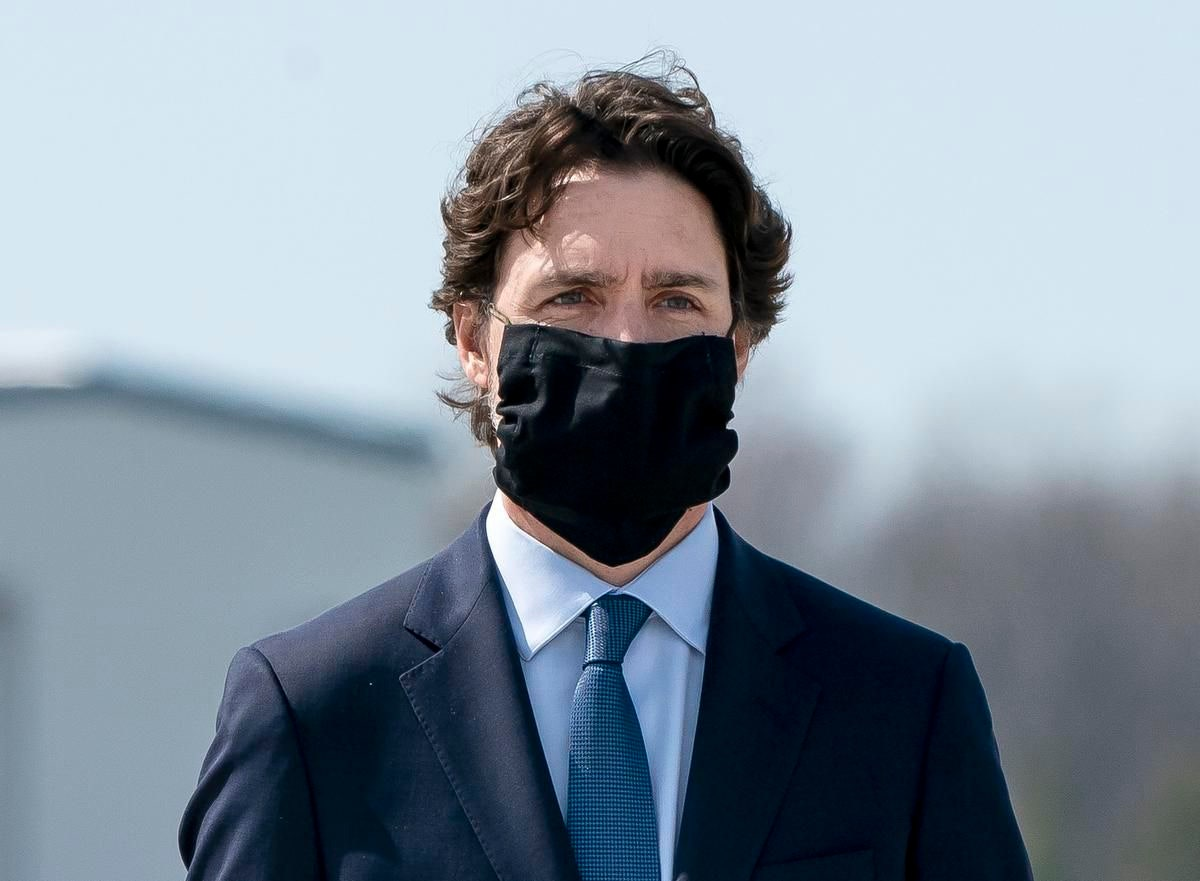with_mask: (479, 175, 739, 511)
